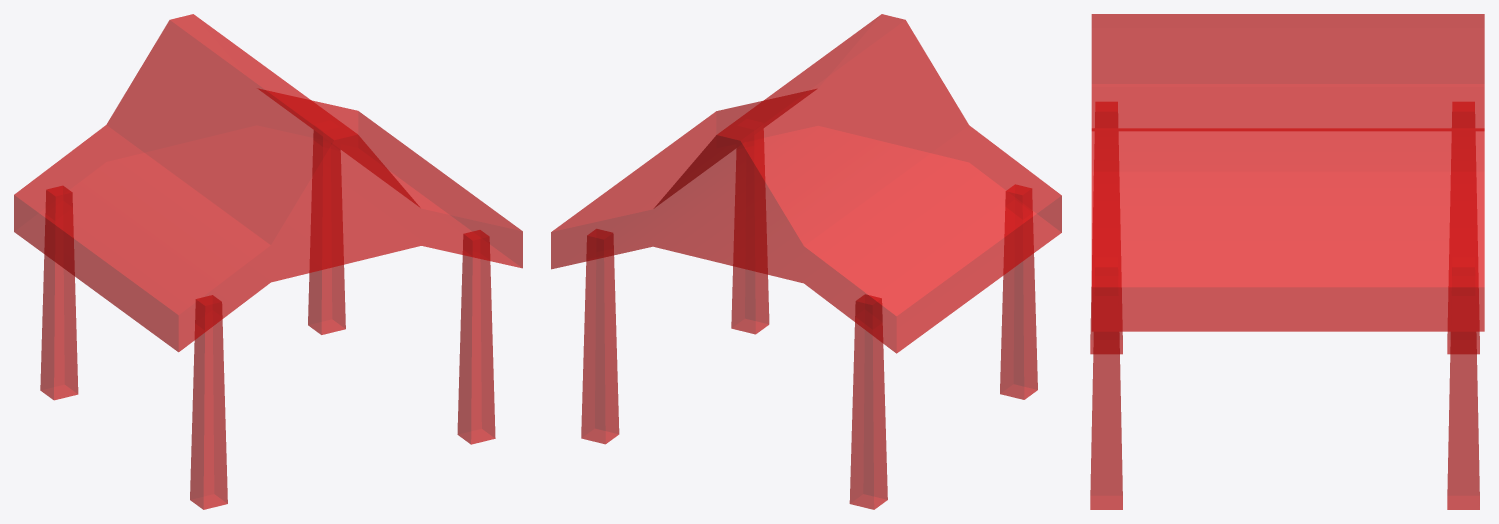
Rendered from SM_Bld_Rickety_House_02_Collision.fbx.
The picture shows the model from 3 angles, left to right: view 1: azimuth 30°, elevation 25°; view 2: azimuth 150°, elevation 25°; view 3: azimuth 270°, elevation 25°; orthographic projection. The views are drawn at different scales.
Visible parts, largest first — view 1: SM_Bld_Rickety_House_02_Collision; view 2: SM_Bld_Rickety_House_02_Collision; view 3: SM_Bld_Rickety_House_02_Collision.
Part boxes in pixels (x1,y1,x2,y2): SM_Bld_Rickety_House_02_Collision: (14, 14, 522, 509); SM_Bld_Rickety_House_02_Collision: (551, 14, 1061, 509); SM_Bld_Rickety_House_02_Collision: (1090, 14, 1484, 509).
Size of the model in its own units: 327 by 306 by 272.
